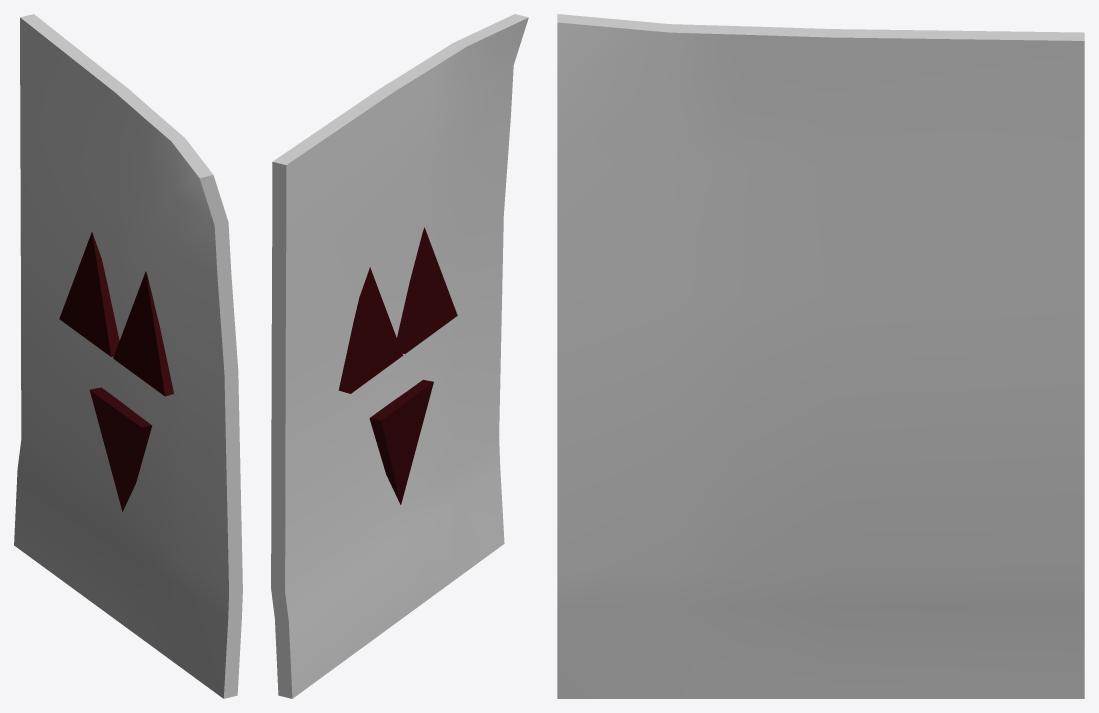
File: simbololujuria.fbx
3 renders of one model, left to right at view 1: azimuth 30°, elevation 25°; view 2: azimuth 150°, elevation 25°; view 3: azimuth 270°, elevation 25°, orthographic. The views are drawn at different scales.
Visible parts, largest first — view 1: Box001, Pyramid002, Pyramid003, Pyramid001; view 2: Box001, Pyramid002, Pyramid003, Pyramid001; view 3: Box001.
Boxes of the visible parts, x1=… form: Box001: x1=14, y1=14, x2=242, y2=698; Pyramid002: x1=59, y1=232, x2=119, y2=356; Pyramid003: x1=89, y1=387, x2=152, y2=511; Pyramid001: x1=113, y1=271, x2=173, y2=396; Box001: x1=271, y1=14, x2=528, y2=698; Pyramid002: x1=338, y1=267, x2=403, y2=393; Pyramid003: x1=369, y1=379, x2=433, y2=504; Pyramid001: x1=397, y1=227, x2=457, y2=353; Box001: x1=557, y1=14, x2=1084, y2=698.
Bounding box in the file's own units: 1.71 × 18.99 × 13.72.
